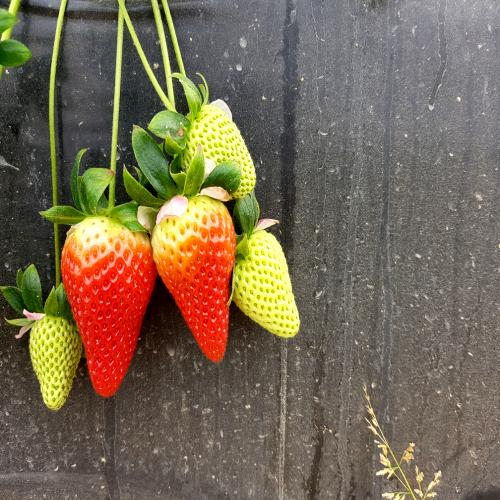partially-ripe: (153, 192, 241, 365)
ripe: (60, 208, 162, 408)
